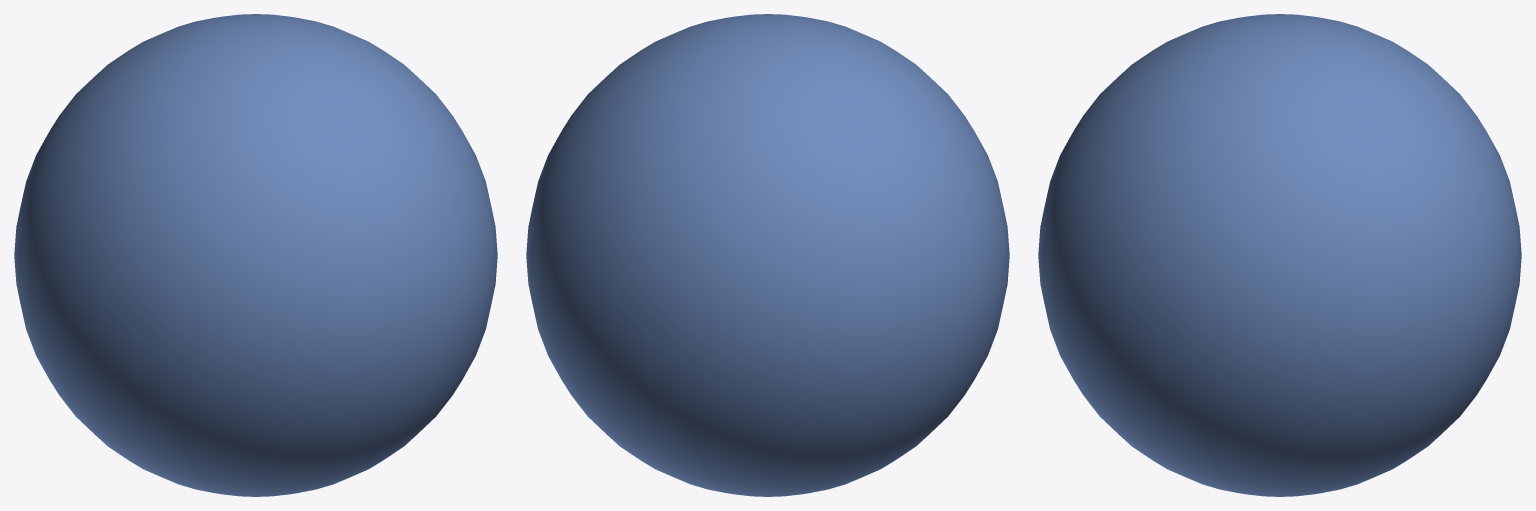
File: earth-network-globe.glb
The picture shows the model from 3 angles, left to right: view 1: azimuth 30°, elevation 25°; view 2: azimuth 150°, elevation 25°; view 3: azimuth 270°, elevation 25°; orthographic projection.
Parts seen in each view (by area): view 1: Earth_Network_Globe_Node; view 2: Earth_Network_Globe_Node; view 3: Earth_Network_Globe_Node.
Part boxes in pixels (<box>): Earth_Network_Globe_Node: <box>14,14,497,496</box>; Earth_Network_Globe_Node: <box>526,14,1009,496</box>; Earth_Network_Globe_Node: <box>1038,14,1521,496</box>.
Size of the model in its own units: 6 by 6 by 6.
